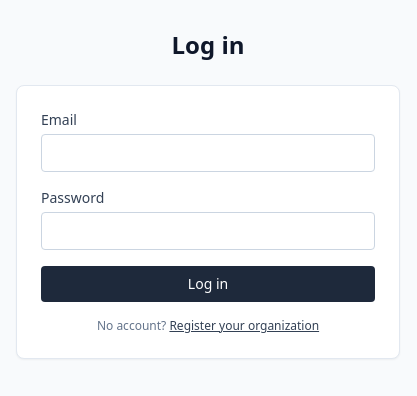
Test: LoginPage › shows validation errors for a bad email and empty password
Type "not-an-email" into the field labelled "Email" at point(208, 153), box left=41, top=134, right=375, bottom=172
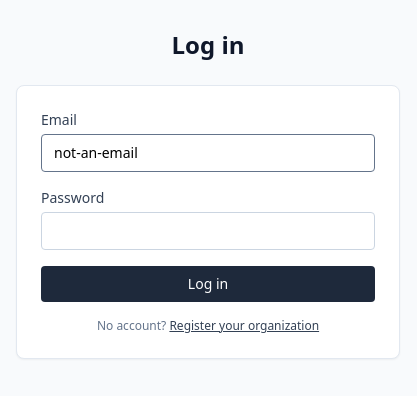
Click the button with test id "login-submit" at point(208, 284), box left=41, top=266, right=375, bottom=302
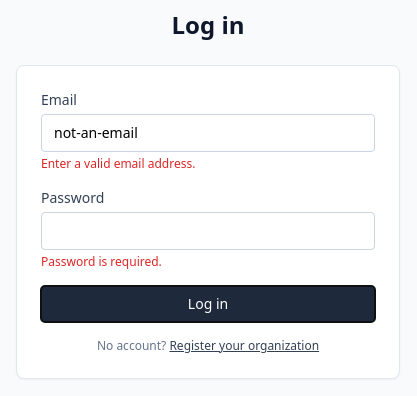
Result: the text "Enter a valid email address." is shown at left=41, top=155, right=195, bottom=172
Result: the text "Password is required." is shown at left=41, top=253, right=162, bottom=270
